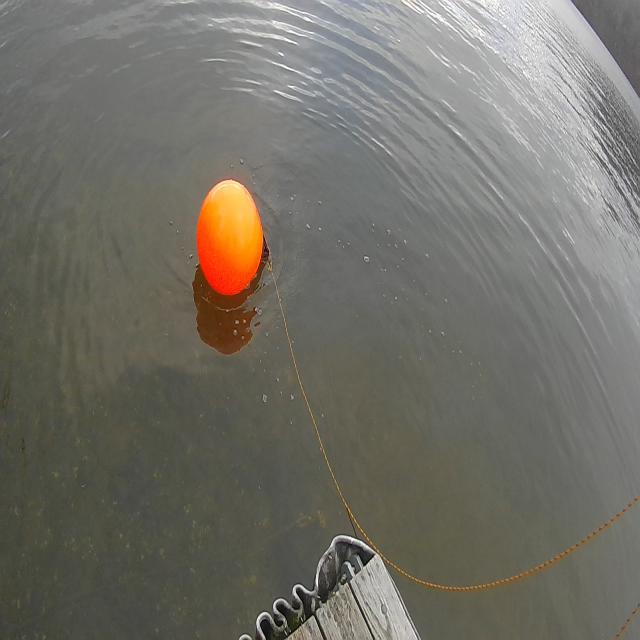Buoy: (194, 172, 277, 301)
